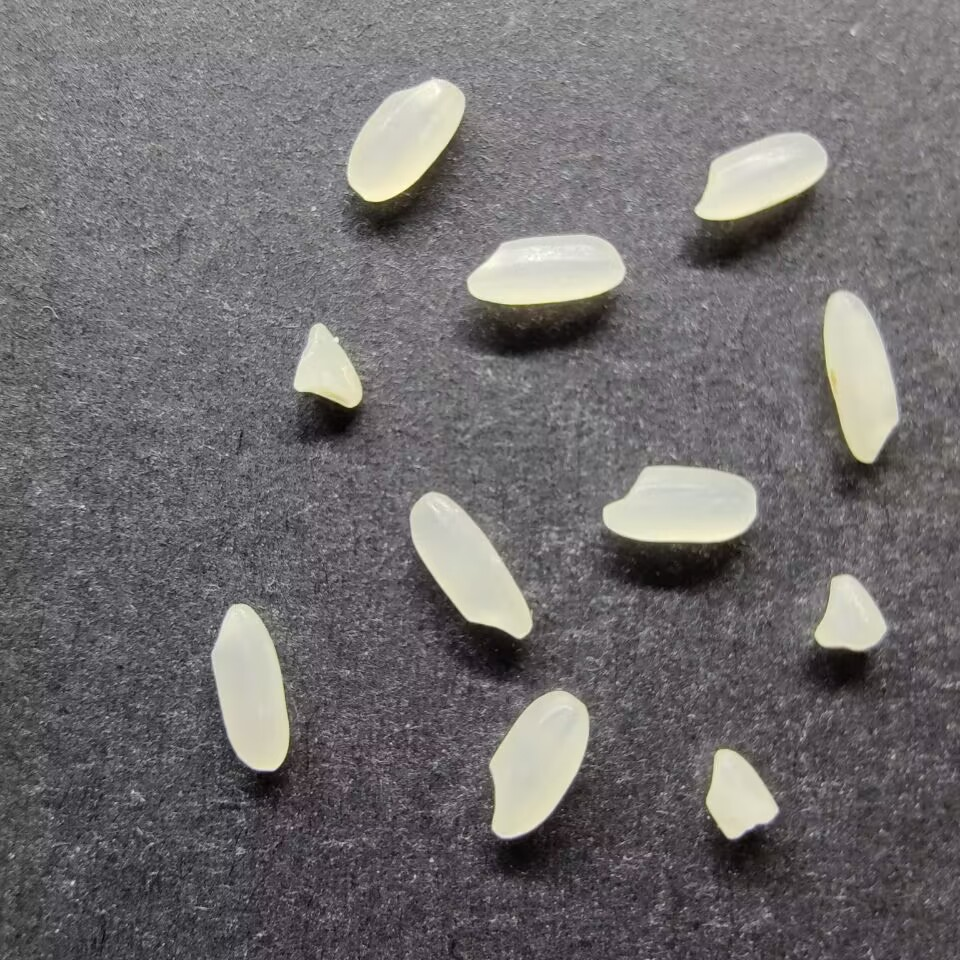broken: (704, 746, 781, 841), (292, 320, 364, 410), (813, 572, 887, 653)
rice: (407, 490, 534, 640), (344, 75, 466, 205), (487, 689, 592, 839), (819, 289, 901, 464), (208, 602, 291, 773), (599, 463, 759, 545), (693, 132, 831, 222), (463, 232, 626, 305)
